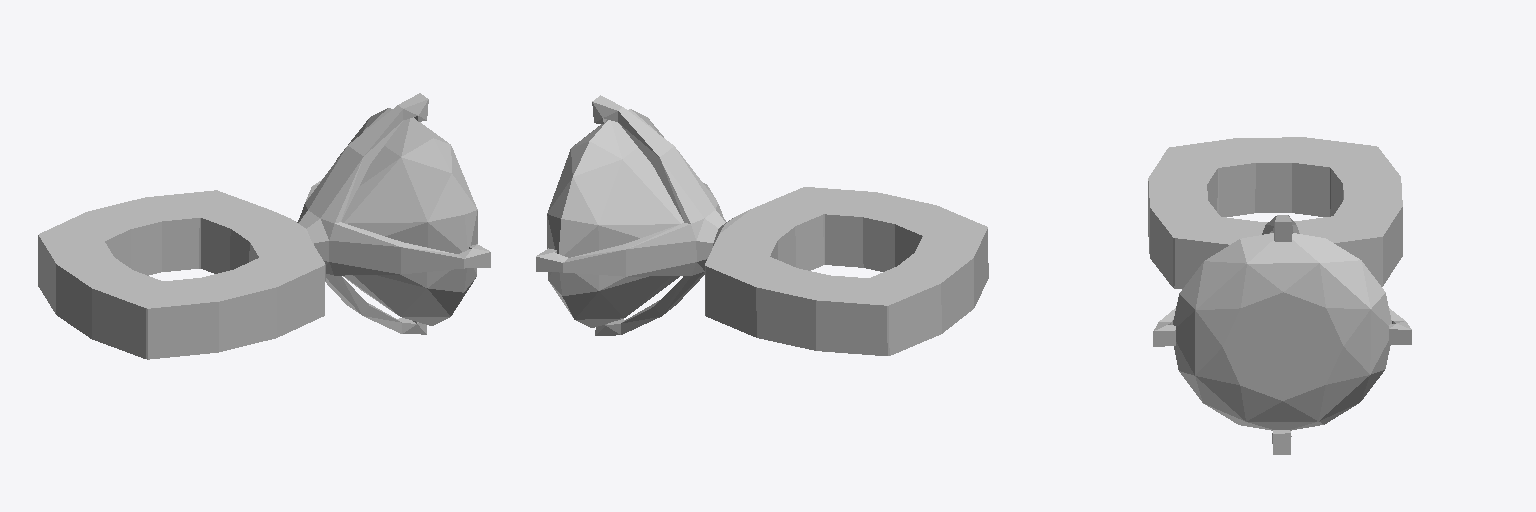
The model's file is Ring.obj.
The picture shows the model from 3 angles: view 1: azimuth 30°, elevation 25°; view 2: azimuth 150°, elevation 25°; view 3: azimuth 270°, elevation 25°; orthographic projection.
Visible parts, largest first — view 1: ring_engineer_reference; view 2: ring_engineer_reference; view 3: ring_engineer_reference.
Boxes of the visible parts, x1=… form: ring_engineer_reference: x1=38, y1=93, x2=490, y2=359; ring_engineer_reference: x1=536, y1=95, x2=988, y2=355; ring_engineer_reference: x1=1148, y1=137, x2=1411, y2=454.
Size of the model in its own units: 3.82 by 2.29 by 2.34.